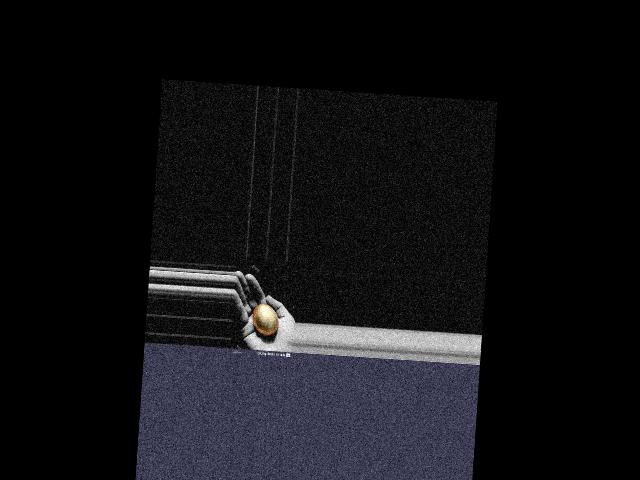egg: (251, 303, 279, 335)
